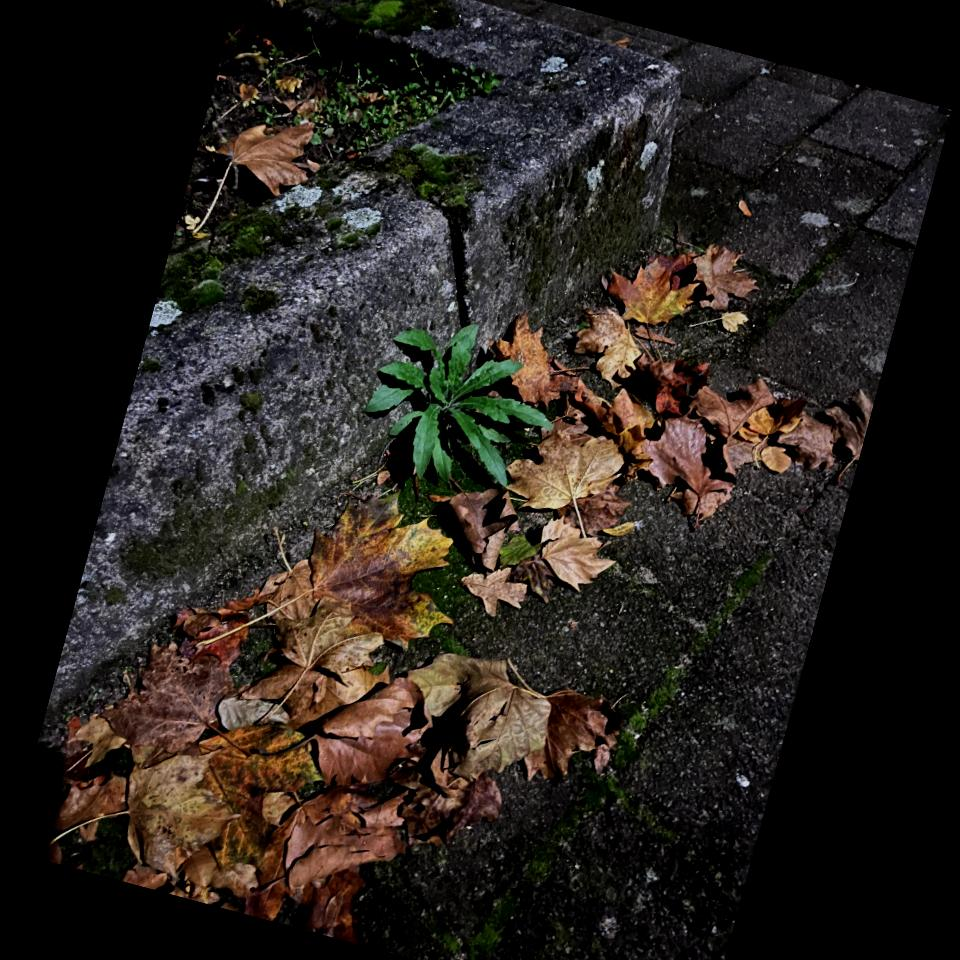weed: (451, 577, 760, 959), (369, 328, 552, 499)
